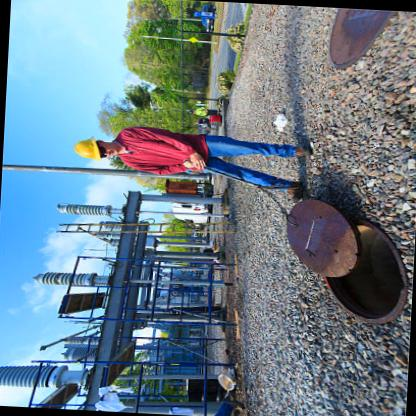manholes: (261, 187, 416, 337), (299, 5, 399, 74)
